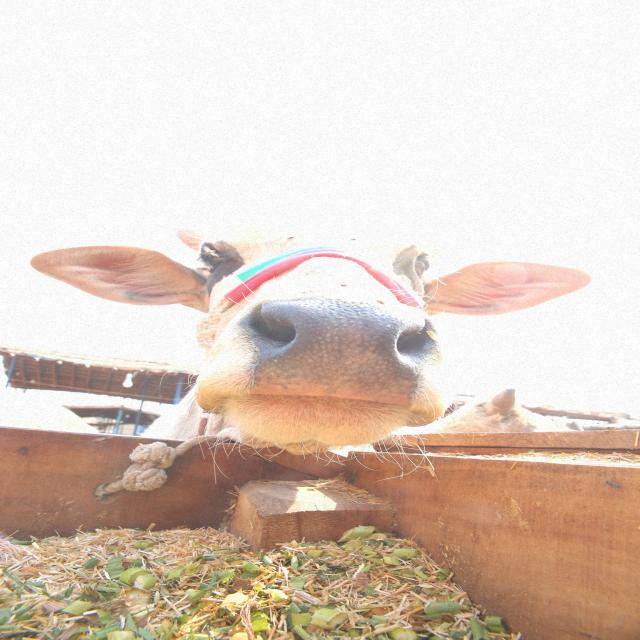muzzles: (229, 290, 449, 421)
